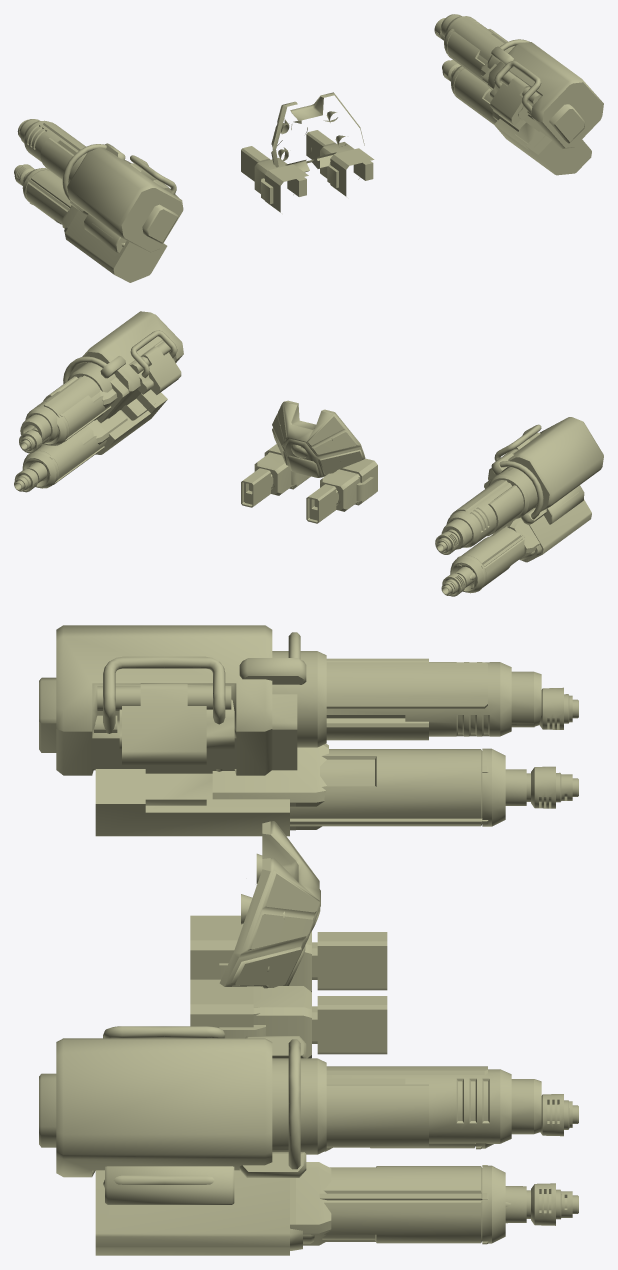
The model's file is SpiderWeapons.glb.
3 views of the same model, one above another, from view 1: azimuth 30°, elevation 25°; view 2: azimuth 150°, elevation 25°; view 3: azimuth 270°, elevation 25° (orthographic). The views are drawn at different scales.
Parts seen in each view (by area): view 1: Forearm_Left_BH1_AC10, Forearm_Right_BH1_AC10, Forearm_Left_EH2_PPC, Torso_Center_EH1_Flamer, Torso_Center_EH2_Flamer, Forearm_Left_BH2_MG, Forearm_Right_EH2_PPC, Torso_Center_MH1_Missile2, Forearm_Left_BH2_AC5, Forearm_Right_EH1_PPC, Forearm_Right_EH2_Laser, Forearm_Left_BH2_AC2 (+8 smaller); view 2: Forearm_Left_BH1_AC10, Forearm_Right_BH1_AC10, Torso_Center_MH1_Missile2, Forearm_Left_EH2_PPC, Forearm_Right_EH2_PPC, Torso_Center_MH1_Missile4, Forearm_Left_BH2_MG, Torso_Center_EH2_Flamer, Forearm_Right_EH1_PPC, Torso_Center_EH2_Laser, Forearm_Right_BH2_AC2, Torso_Center_EH1_Flamer (+7 smaller); view 3: Forearm_Right_BH1_AC10, Forearm_Left_BH1_AC10, Forearm_Left_EH2_PPC, Forearm_Right_EH2_PPC, Forearm_Right_BH2_MG, Forearm_Left_EH2_Laser, Forearm_Right_BH2_AC5, Torso_Center_EH1_Flamer, Forearm_Right_BH2_AC2, Torso_Center_EH2_Flamer, Forearm_Left_BH2_AC2, Torso_Center_MH1_Missile2 (+8 smaller).
Part boxes in pixels (x1,y1,x2,y2): Forearm_Left_BH1_AC10: (19, 119, 183, 252); Forearm_Right_BH1_AC10: (441, 14, 603, 149); Forearm_Left_EH2_PPC: (22, 168, 166, 282); Torso_Center_EH1_Flamer: (306, 130, 374, 196); Torso_Center_EH2_Flamer: (241, 146, 308, 212); Forearm_Left_BH2_MG: (64, 210, 128, 269); Forearm_Right_EH2_PPC: (451, 66, 497, 124); Torso_Center_MH1_Missile2: (271, 92, 359, 172); Forearm_Left_BH2_AC5: (14, 164, 150, 282); Forearm_Right_EH1_PPC: (444, 29, 487, 83); Forearm_Right_EH2_Laser: (492, 110, 591, 174); Forearm_Left_BH2_AC2: (14, 165, 167, 278); Forearm_Left_BH1_AC10: (441, 417, 603, 549); Forearm_Right_BH1_AC10: (20, 311, 183, 443); Torso_Center_MH1_Missile2: (272, 402, 365, 477); Forearm_Left_EH2_PPC: (450, 502, 591, 593); Forearm_Right_EH2_PPC: (22, 426, 113, 488); Torso_Center_MH1_Missile4: (273, 400, 365, 477); Forearm_Left_BH2_MG: (469, 485, 591, 580); Torso_Center_EH2_Flamer: (306, 458, 377, 523); Forearm_Right_EH1_PPC: (43, 386, 146, 445); Torso_Center_EH2_Laser: (320, 469, 373, 511); Forearm_Right_BH2_AC2: (14, 389, 167, 491); Torso_Center_EH1_Flamer: (241, 444, 310, 507); Forearm_Right_BH1_AC10: (56, 1026, 541, 1187); Forearm_Left_BH1_AC10: (56, 625, 541, 805); Forearm_Left_EH2_PPC: (95, 748, 505, 829); Forearm_Right_EH2_PPC: (319, 1165, 505, 1244); Forearm_Right_BH2_MG: (95, 1166, 510, 1255); Forearm_Left_EH2_Laser: (95, 744, 328, 836); Forearm_Right_BH2_AC5: (95, 1166, 561, 1236); Torso_Center_EH1_Flamer: (190, 979, 387, 1054); Forearm_Right_BH2_AC2: (95, 1166, 578, 1233); Torso_Center_EH2_Flamer: (190, 915, 387, 990); Forearm_Left_BH2_AC2: (95, 769, 578, 812); Torso_Center_MH1_Missile2: (231, 821, 319, 987).
Bounding box in the file's own units: 1.66 × 0.3366 × 0.7993.
